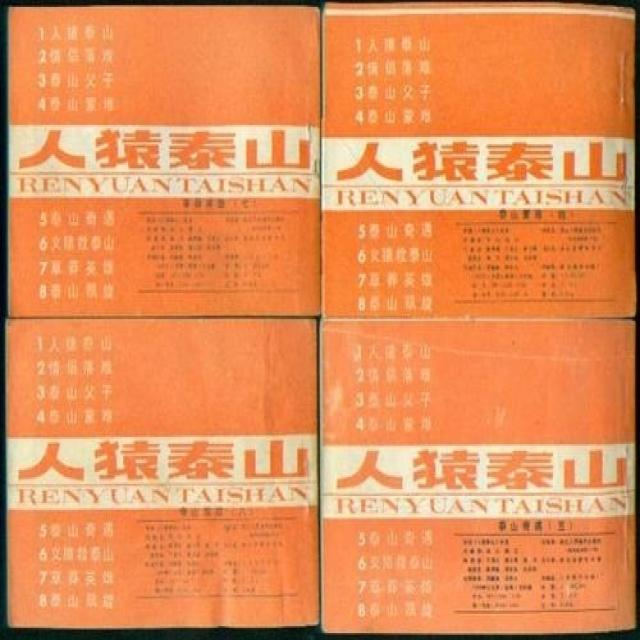box: (319, 316, 639, 633), (317, 3, 637, 317), (6, 7, 322, 322), (6, 318, 322, 631)
